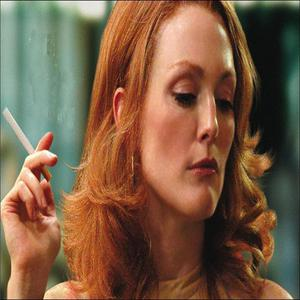cigarette: (1, 104, 56, 183)
